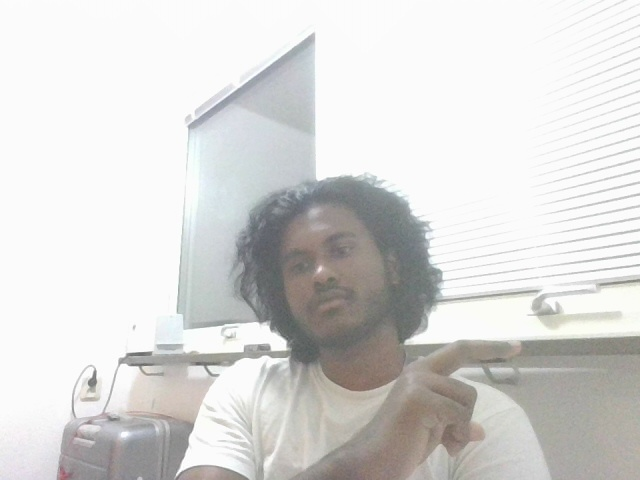no: (363, 337, 539, 456)
